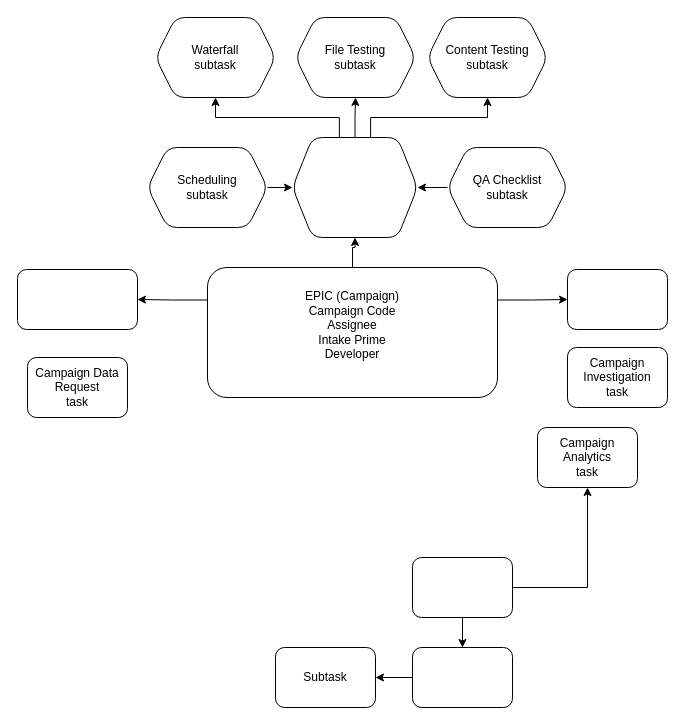
Some shapes in this 685 by 725 pixel diagram are drawn without their labels. The shapes that lost their labels are listed below. From the top down, each one's centre as x and y in pixels, then its label:
At point (355, 187): "Tactic (one independent inssue for each tactic in Campaign)".
At point (77, 299): "Scheduling task".
At point (617, 299): "Campaign Modification task".
At point (462, 587): "Project-Related Task".
At point (462, 677): "Task".
